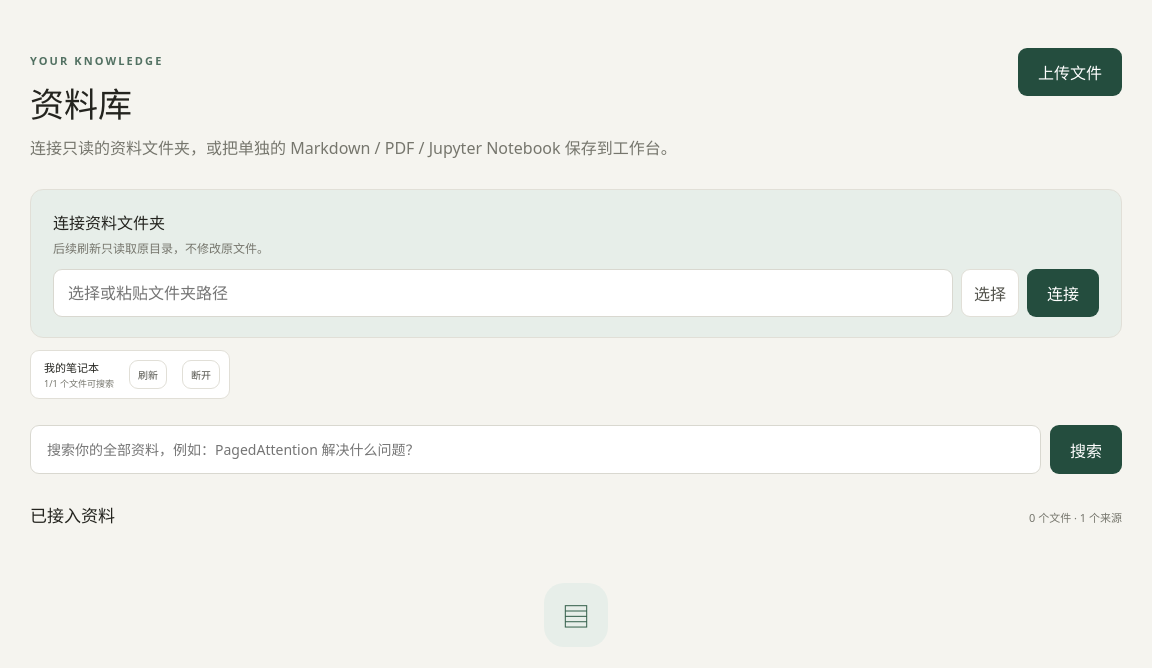
it: LibraryPage 的断开归类 › 断开前确认并把后果说清，确认后调接口并报告移除篇数
Click the button "断开" at (201, 374), box [182,360,220,389]
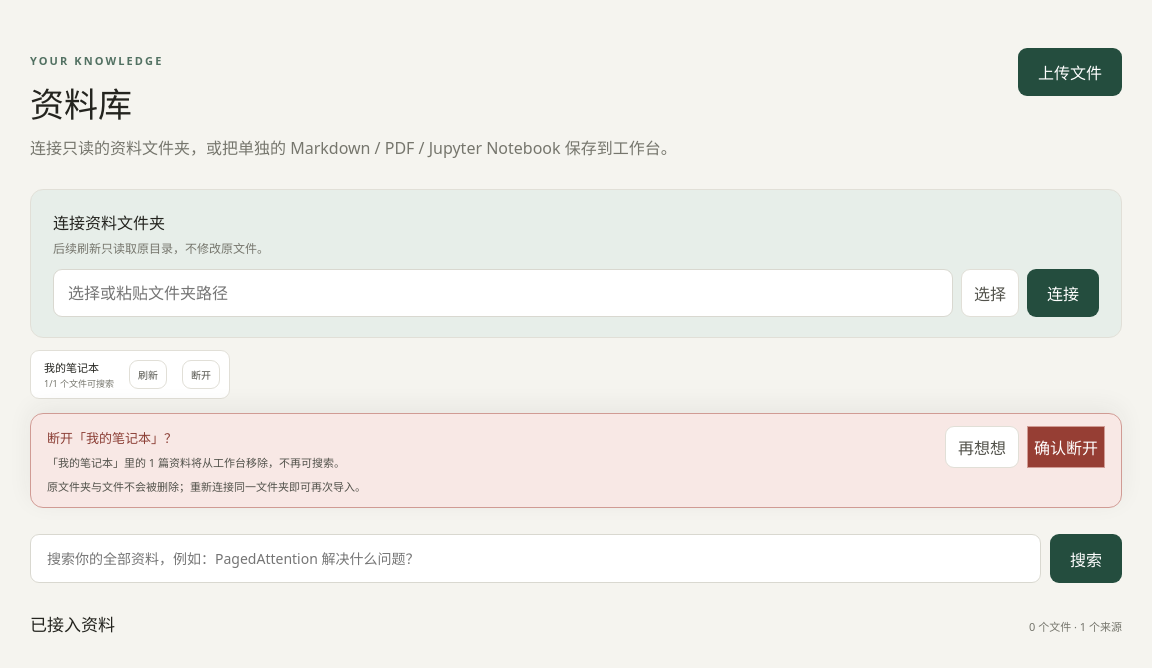
Now the text "断开「我的笔记本」？" is shown, box [47,429,177,447]
Now the text "「我的笔记本」里的 1 篇资料将从工作台移除，不再可搜索。" is shown, box [47,454,366,472]
Now the text "原文件夹与文件不会被删除；重新连接同一文件夹即可再次导入。" is shown, box [47,478,366,495]
Click the button with test id "library-disconnect-confirm" at (1066, 447), box [1027,426,1105,468]
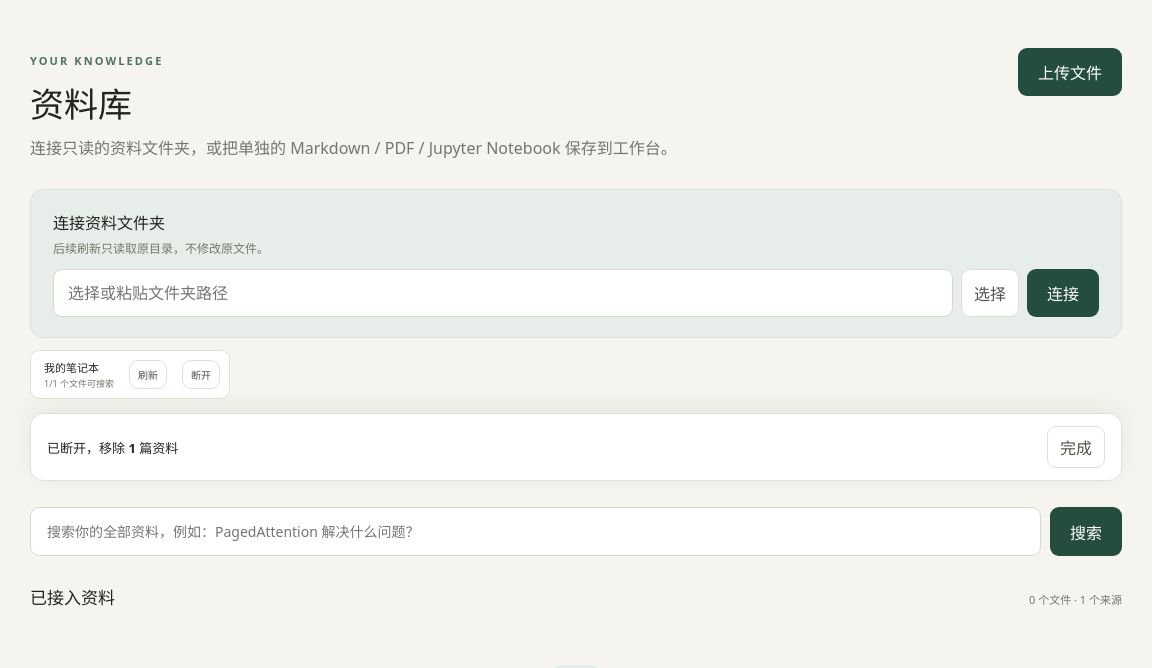
Now the text "已断开，移除 1 篇资料" is shown, box [47,438,178,456]
Click the button "完成" at (1076, 447), box [1047,426,1105,468]
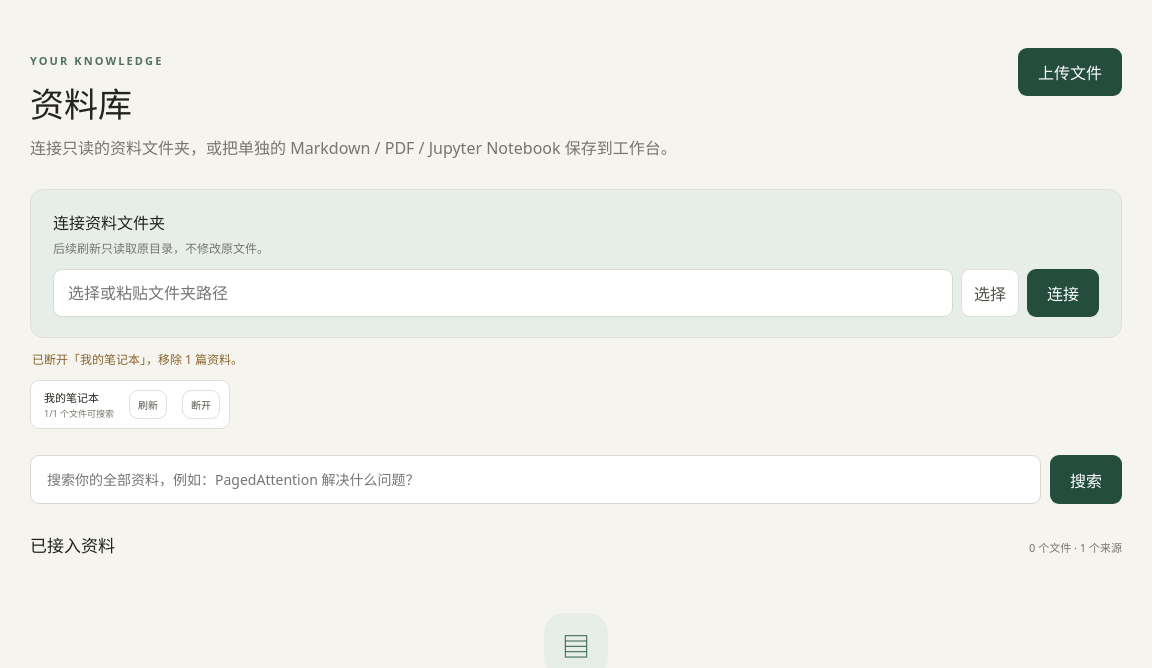
Now the text "已断开「我的笔记本」，移除 1 篇资料。" is shown, box [32,351,243,368]
